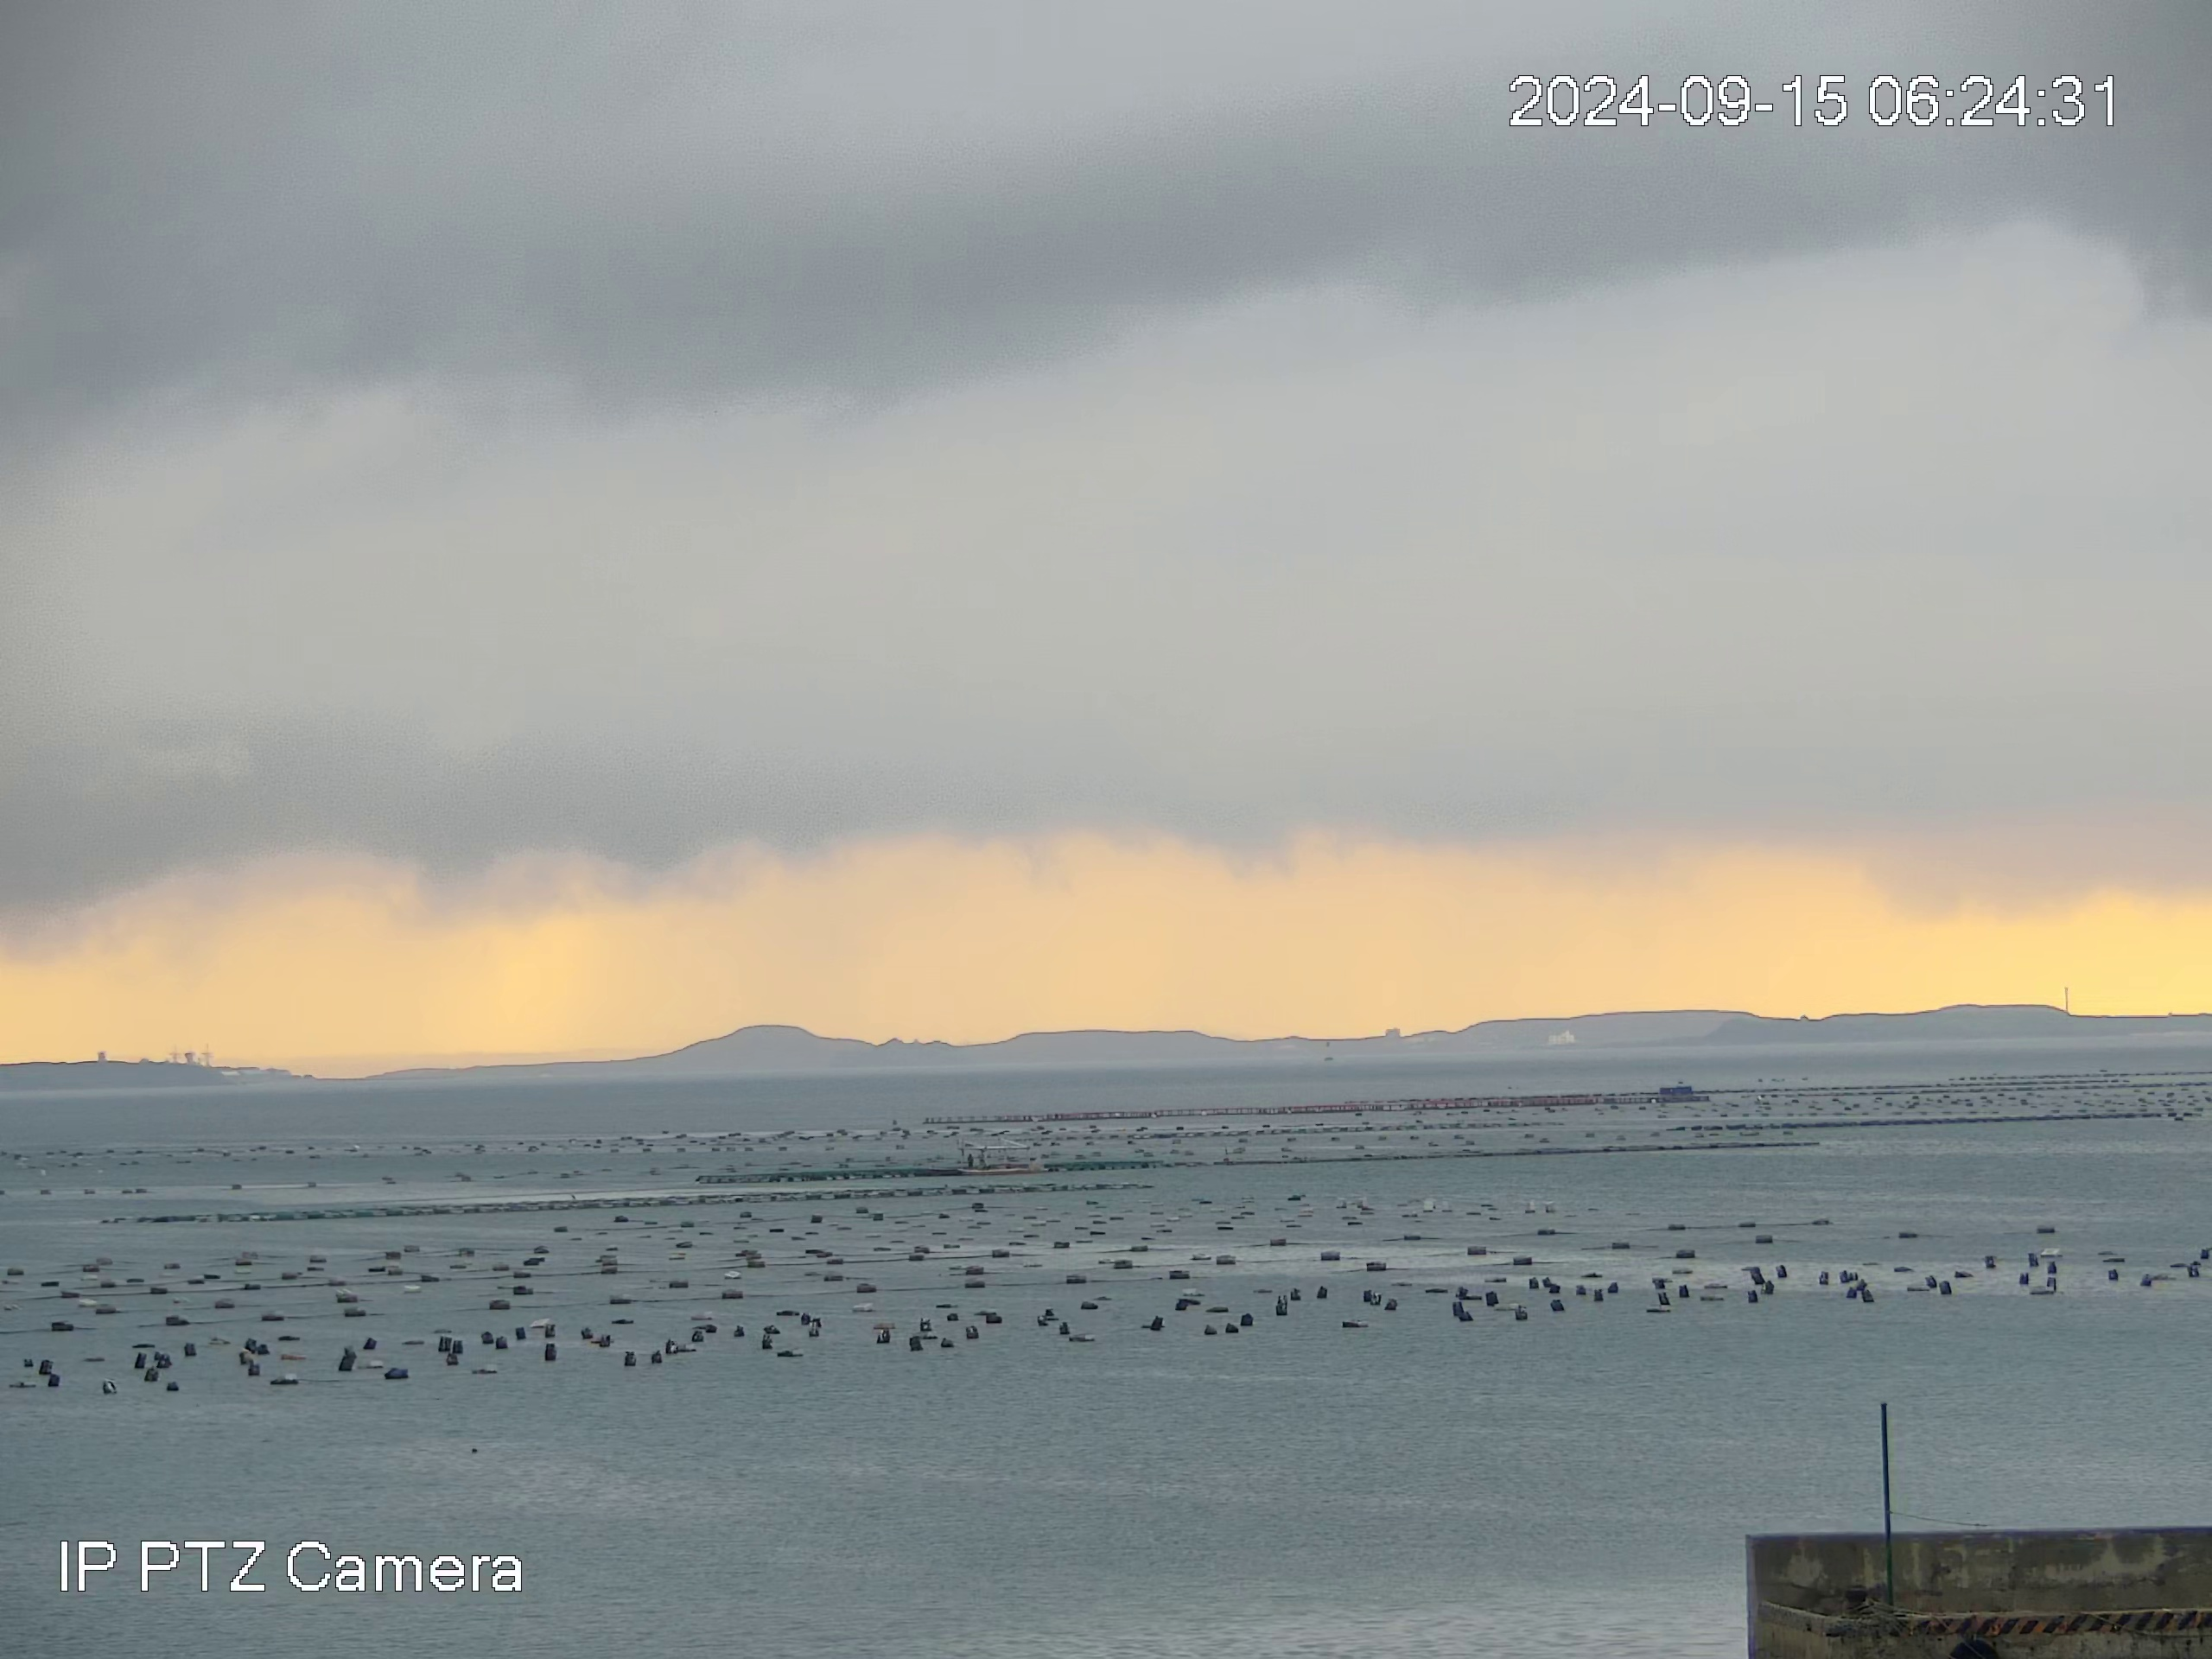boat: (954, 1134, 1050, 1176)
